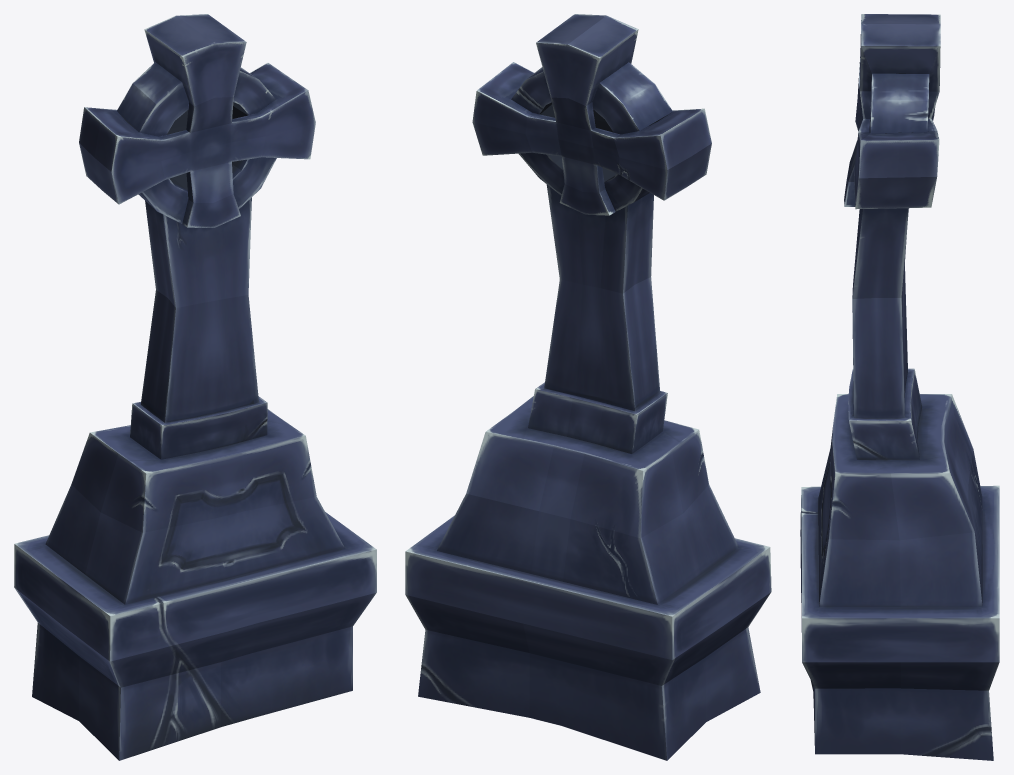
Rendered from gravestone_5.fbx.
The picture shows the model from 3 angles, left to right: view 1: azimuth 30°, elevation 25°; view 2: azimuth 150°, elevation 25°; view 3: azimuth 270°, elevation 25°; orthographic projection. The views are drawn at different scales.
Visible parts, largest first — view 1: Cylinder.002; view 2: Cylinder.002; view 3: Cylinder.002.
Part boxes in pixels (x1,y1,x2,y2): Cylinder.002: (14, 14, 376, 760); Cylinder.002: (405, 14, 771, 760); Cylinder.002: (800, 14, 999, 760).
Bounding box in the file's own units: 272 × 649 × 172.
